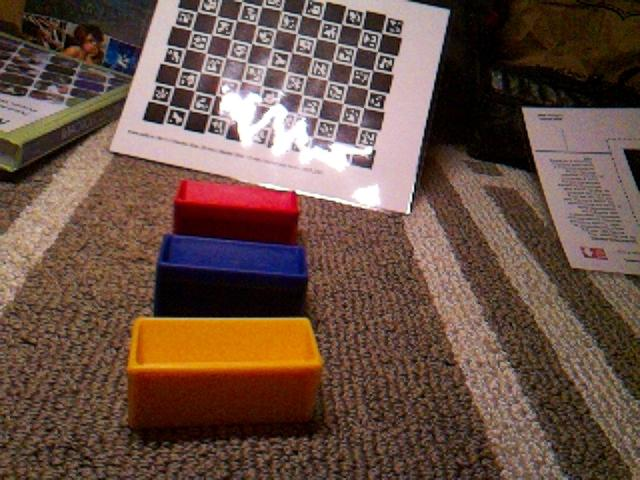blue: (152, 232, 310, 317)
red: (172, 177, 301, 245)
yellow: (126, 315, 325, 431)
